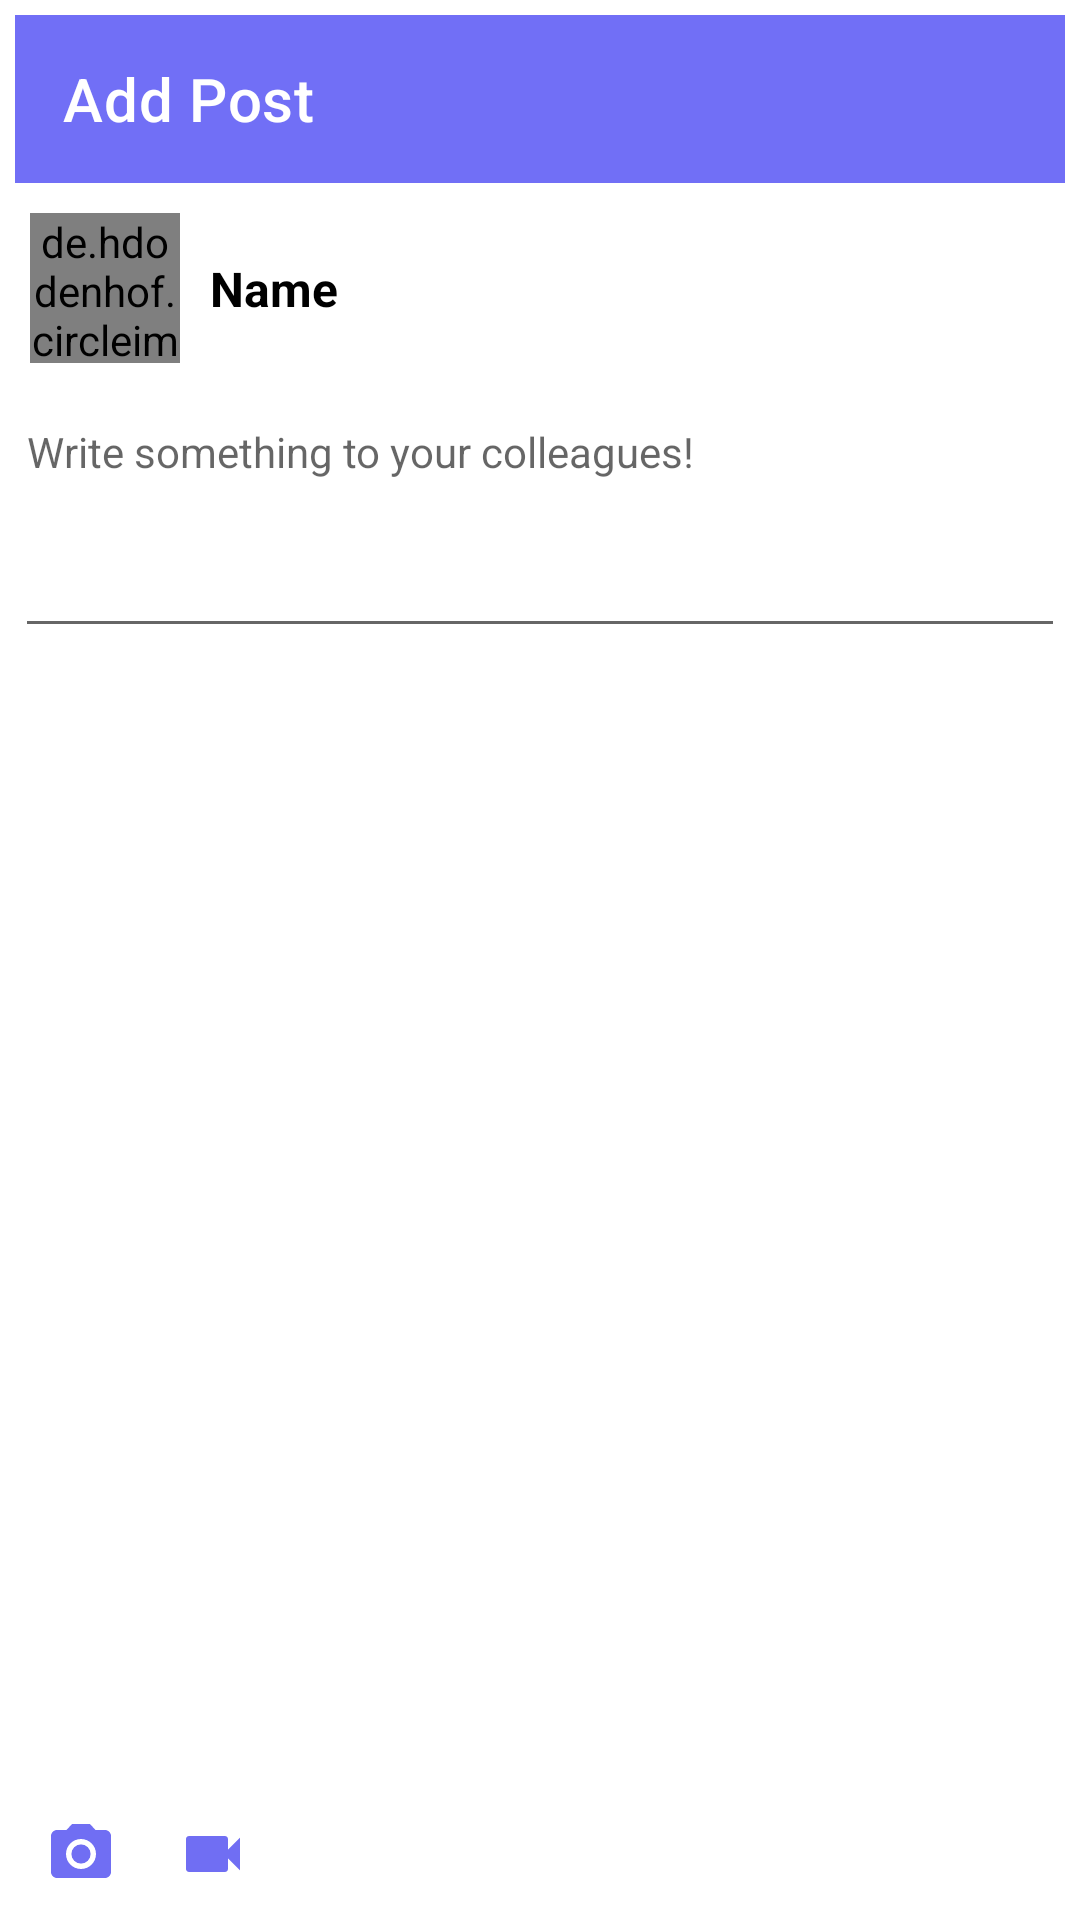

Screen size 1080w x 1920h. Icon name, then its box in pixels as rect(x1, y1, x2, y2):
camera: rect(51, 1824, 111, 1878)
video: rect(186, 1836, 240, 1872)
